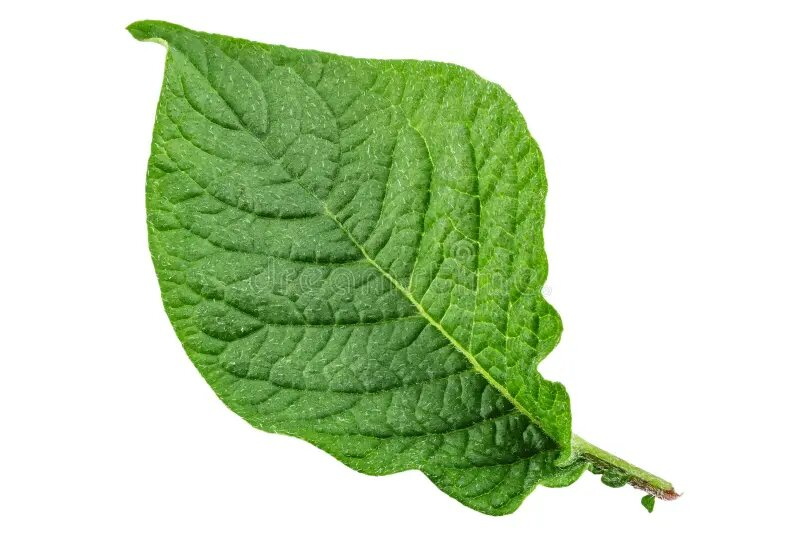potato_leaf: (126, 20, 592, 517)
